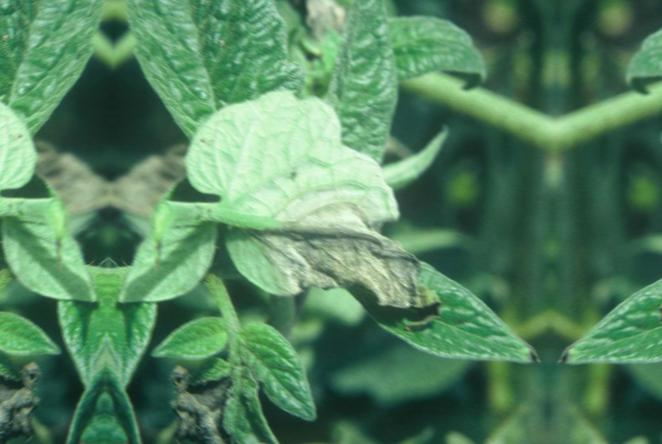Tomato leaf late blight: (152, 79, 540, 389)
